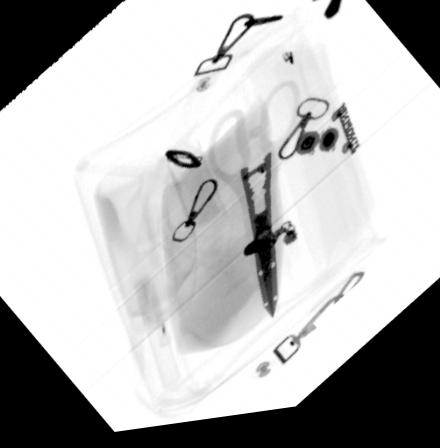Scissors: (208, 86, 302, 327)
